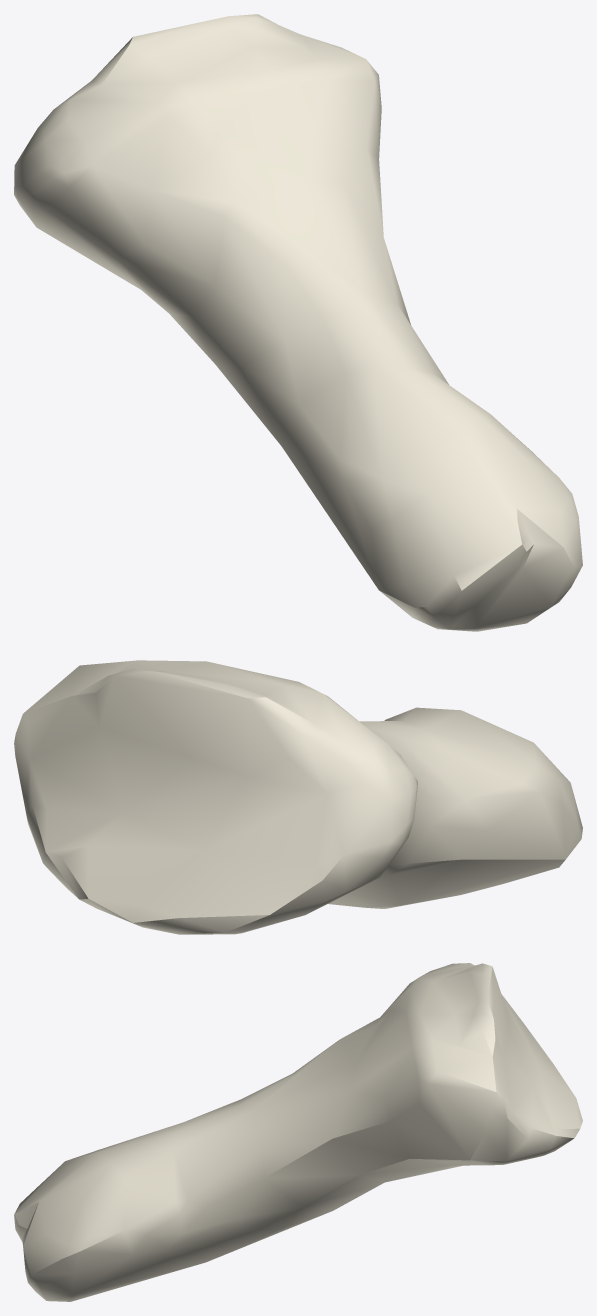
Rendered from fma23957.glb.
3 renders of one model, top to bottom at view 1: azimuth 30°, elevation 25°; view 2: azimuth 150°, elevation 25°; view 3: azimuth 270°, elevation 25°, orthographic. The views are drawn at different scales.
Visible parts, largest first — view 1: FMA23957; view 2: FMA23957; view 3: FMA23957.
Part boxes in pixels (bbox=[...]): FMA23957: bbox=[14, 14, 582, 631]; FMA23957: bbox=[14, 660, 582, 934]; FMA23957: bbox=[14, 963, 582, 1301].
Bounding box in the file's own units: 0.00844 × 0.00927 × 0.0158.
